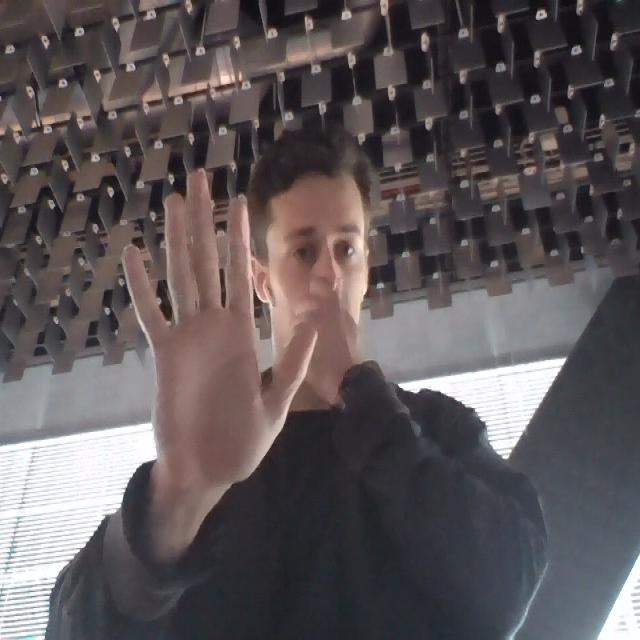backward: (117, 165, 324, 492)
